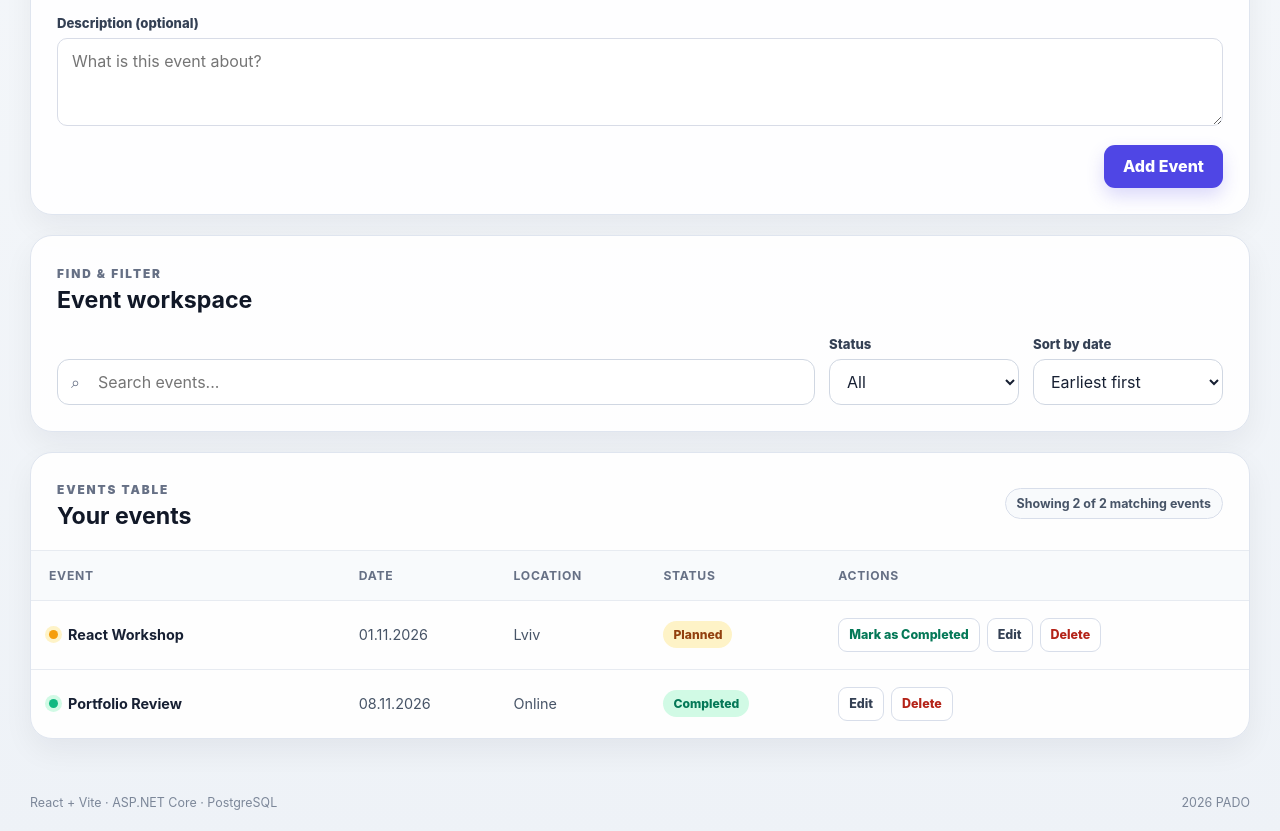
Test case: uses server-side search and status filtering
(page scrolled)
Expected: the text "React Workshop" is shown, [68,626,184,643]
In the search field with placeholder "Search events...": (436, 382) [57,359,815,405], type "Portfolio"
(page scrolled)
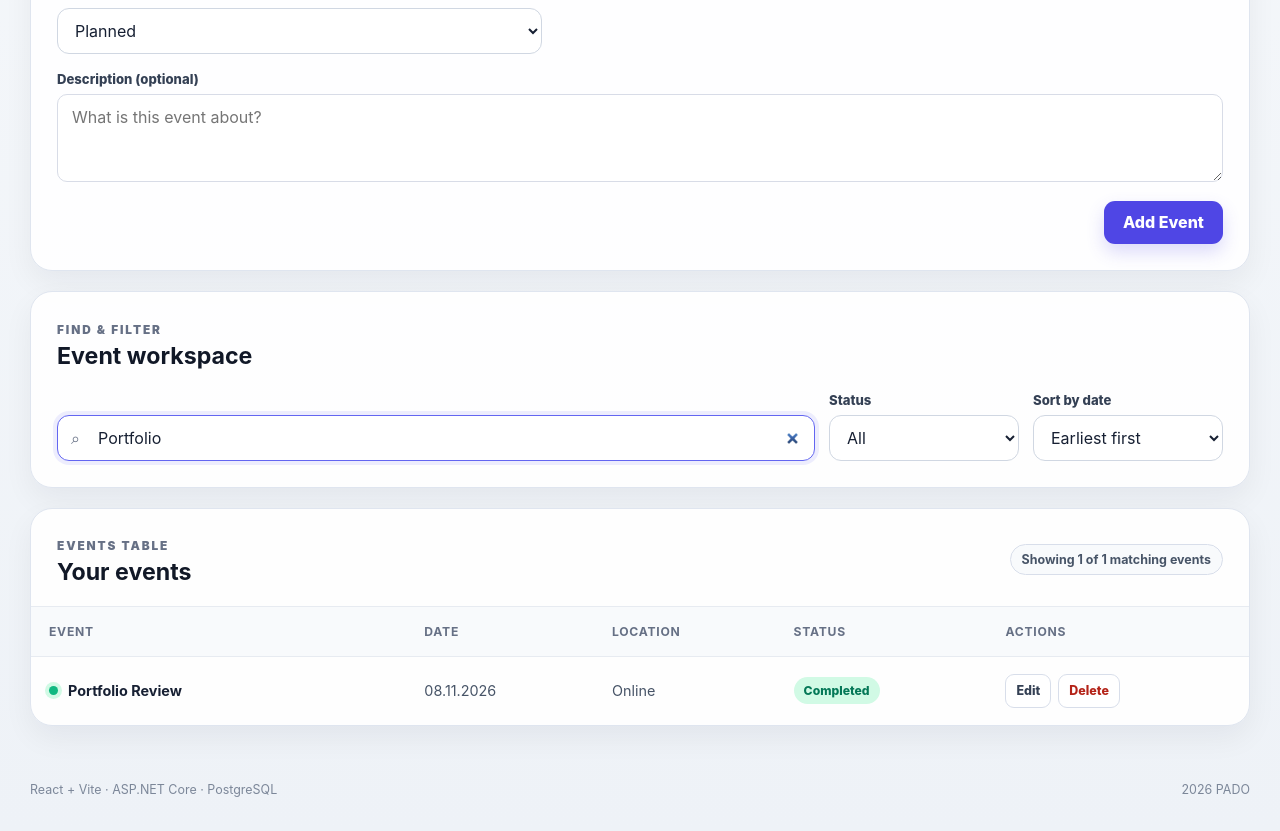
Expected: the text "React Workshop" is gone
Select "Planned" in the dropdown named "Status Filter": (924, 438) [829,415,1019,461]
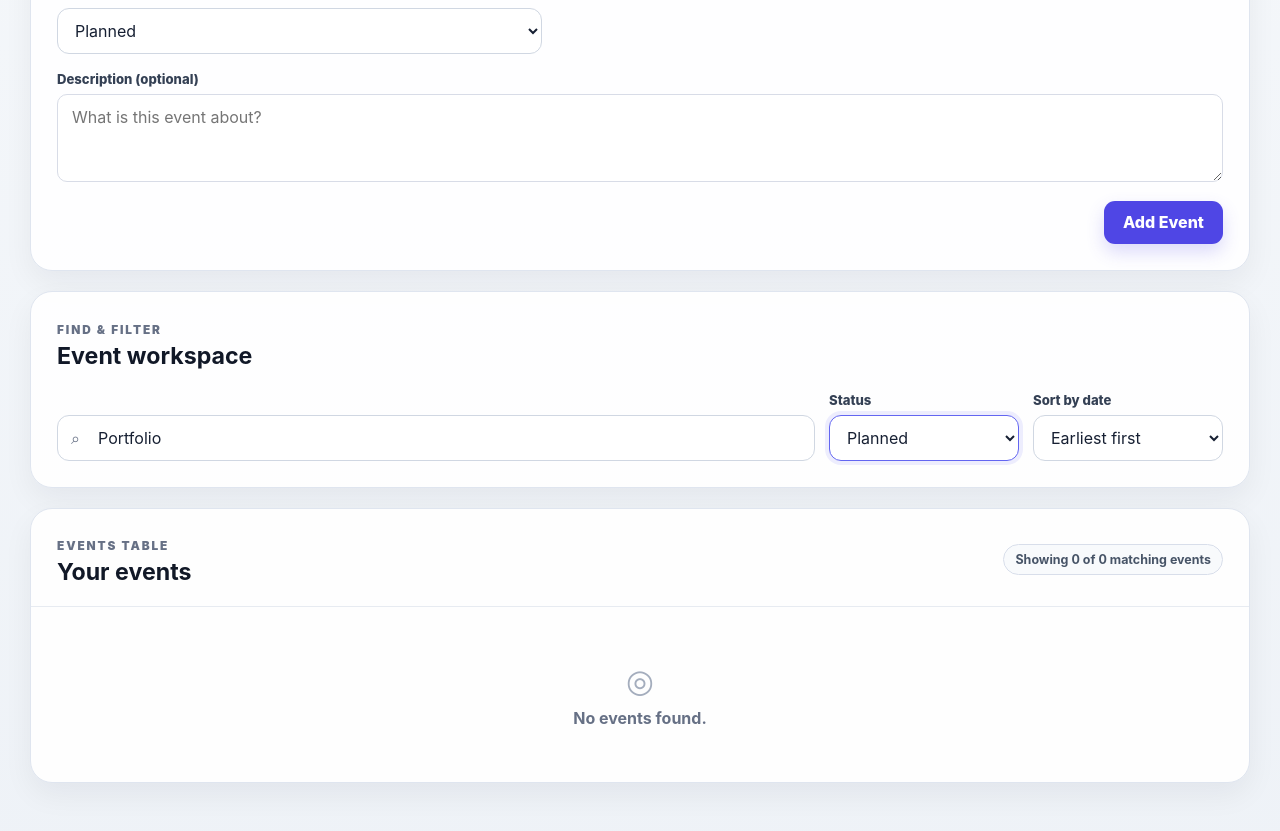
Expected: the text "No events found." is shown, [573,708,707,728]
